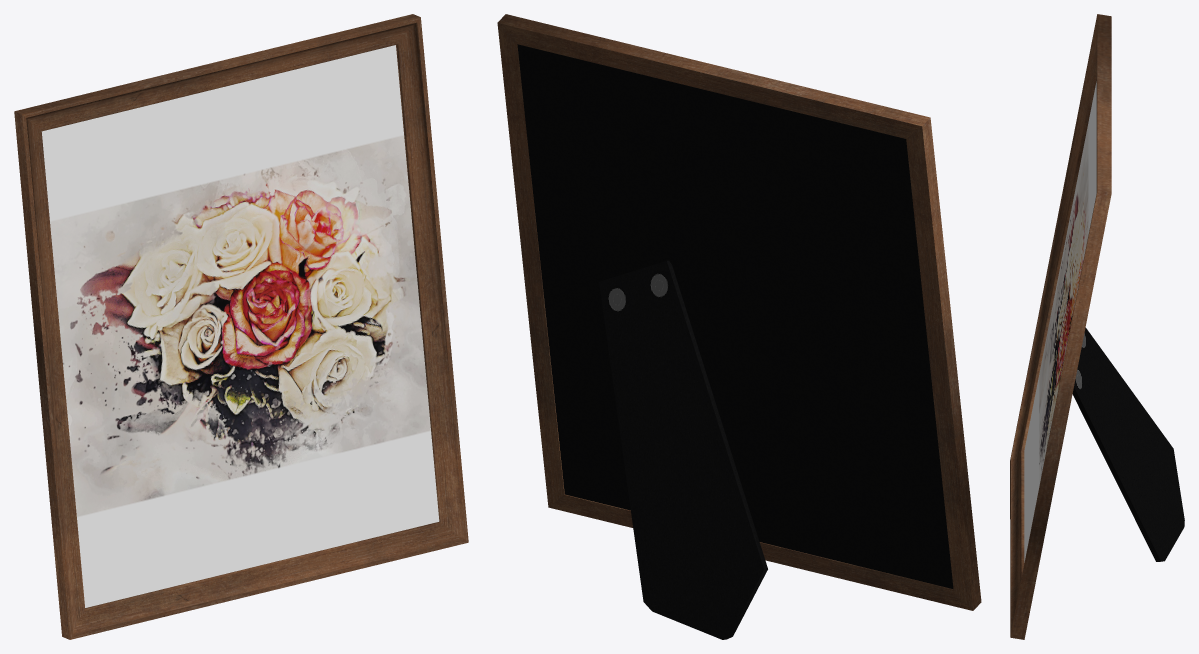
Rendered from PhotoFrame01_2B.FBX.
The picture shows the model from 3 angles, left to right: view 1: azimuth 30°, elevation 25°; view 2: azimuth 150°, elevation 25°; view 3: azimuth 270°, elevation 25°; orthographic projection. The views are drawn at different scales.
Visible parts, largest first — view 1: PhotoFrame01_2B; view 2: PhotoFrame01_2B; view 3: PhotoFrame01_2B.
Part boxes in pixels (x1,y1,x2,y2): PhotoFrame01_2B: [14, 14, 468, 639]; PhotoFrame01_2B: [497, 14, 981, 639]; PhotoFrame01_2B: [1010, 14, 1184, 639].
Size of the model in its own units: 0.2231 by 0.2635 by 0.093.
